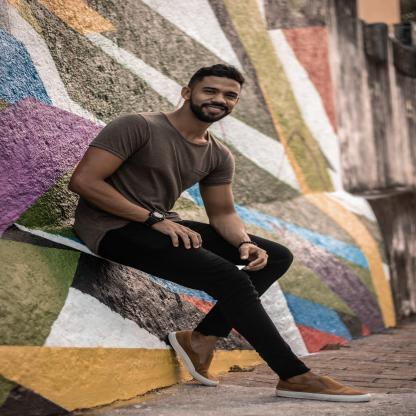Eye: (202, 89, 216, 95), (224, 93, 236, 99)
Mouth: (206, 104, 226, 113)
Nose: (211, 94, 228, 104)
